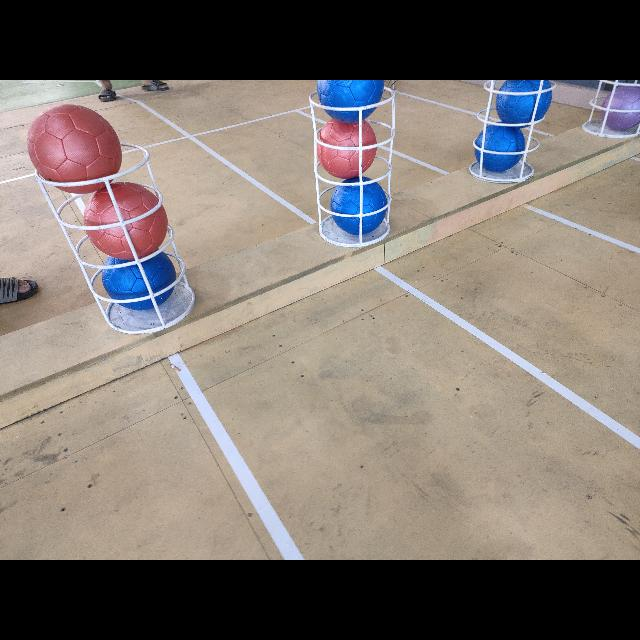B: (101, 256, 177, 310), (331, 180, 387, 234), (316, 80, 386, 120), (496, 80, 552, 126), (474, 123, 524, 171)
R: (29, 106, 123, 194), (84, 182, 168, 254), (314, 121, 378, 177)
